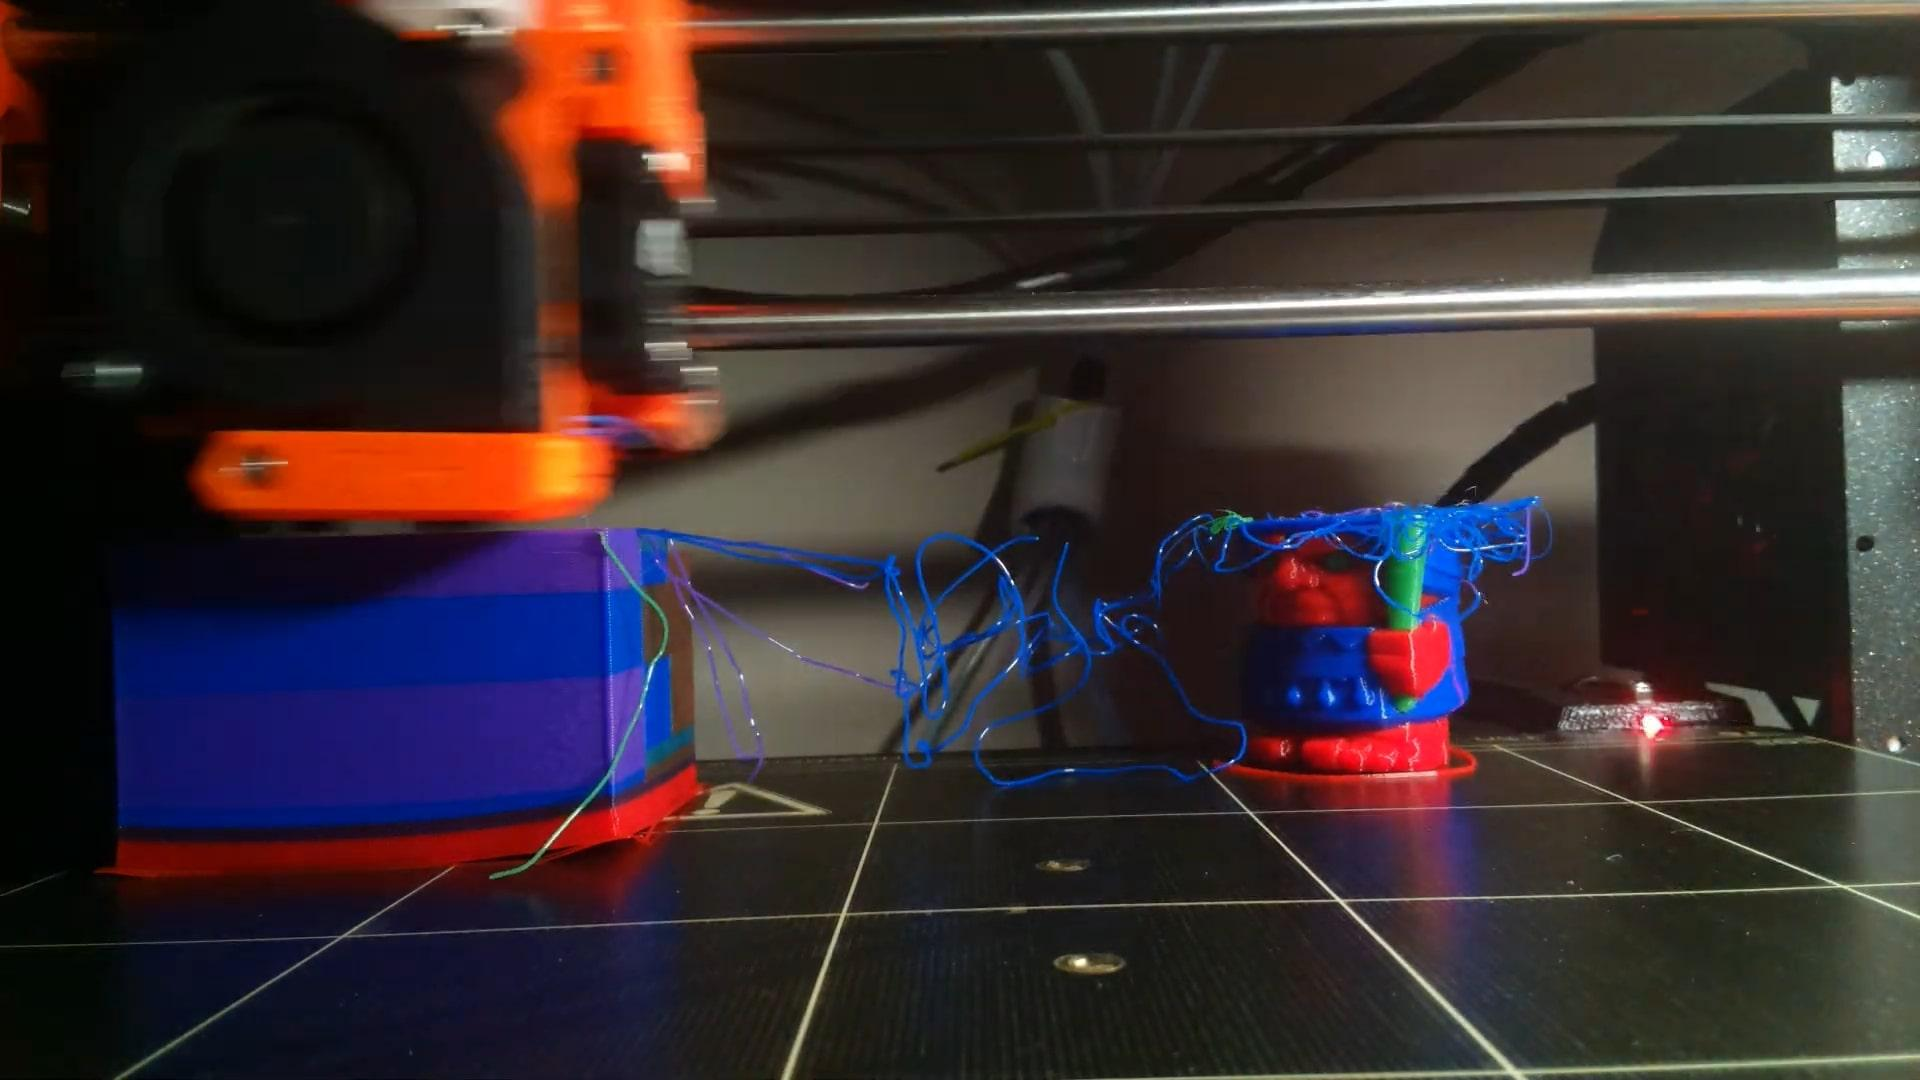Printing-Artifact: (637, 481, 1241, 791), (1204, 467, 1531, 605)
